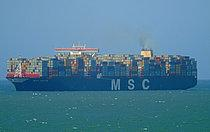Ship: (6, 31, 202, 98)
